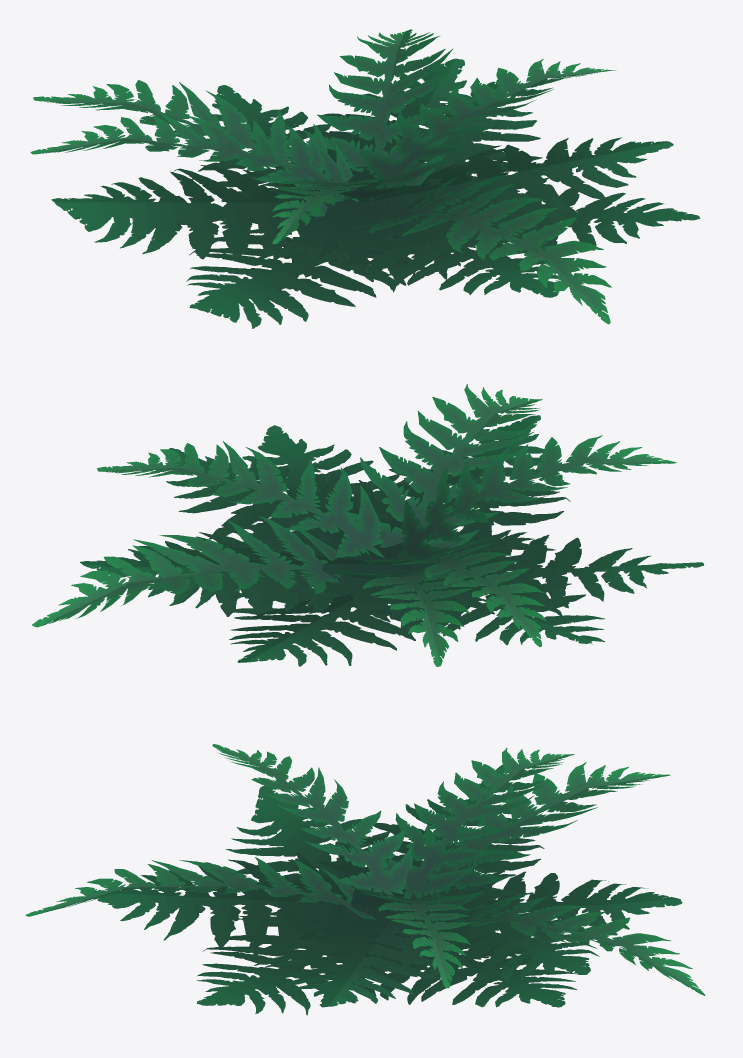
Rendered from plant_06-fern1.glb.
3 renders of one model, top to bottom at view 1: azimuth 30°, elevation 25°; view 2: azimuth 150°, elevation 25°; view 3: azimuth 270°, elevation 25°, orthographic. The views are drawn at different scales.
Visible parts, largest first — view 1: fern1; view 2: fern1; view 3: fern1.
Part boxes in pixels (x1,y1,x2,y2): fern1: [30, 29, 700, 328]; fern1: [32, 384, 703, 666]; fern1: [25, 744, 705, 1015].
Bounding box in the file's own units: 1.24 × 0.2525 × 1.39.
1 material, 1 textured.
